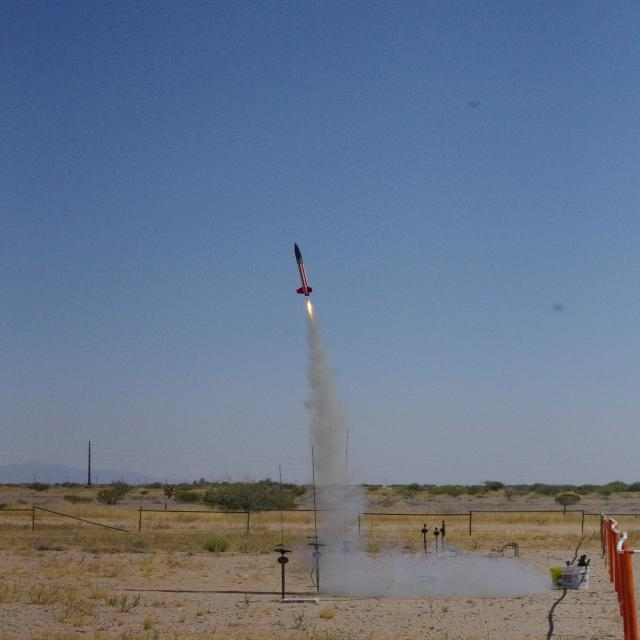Rocket: (294, 242, 313, 296)
